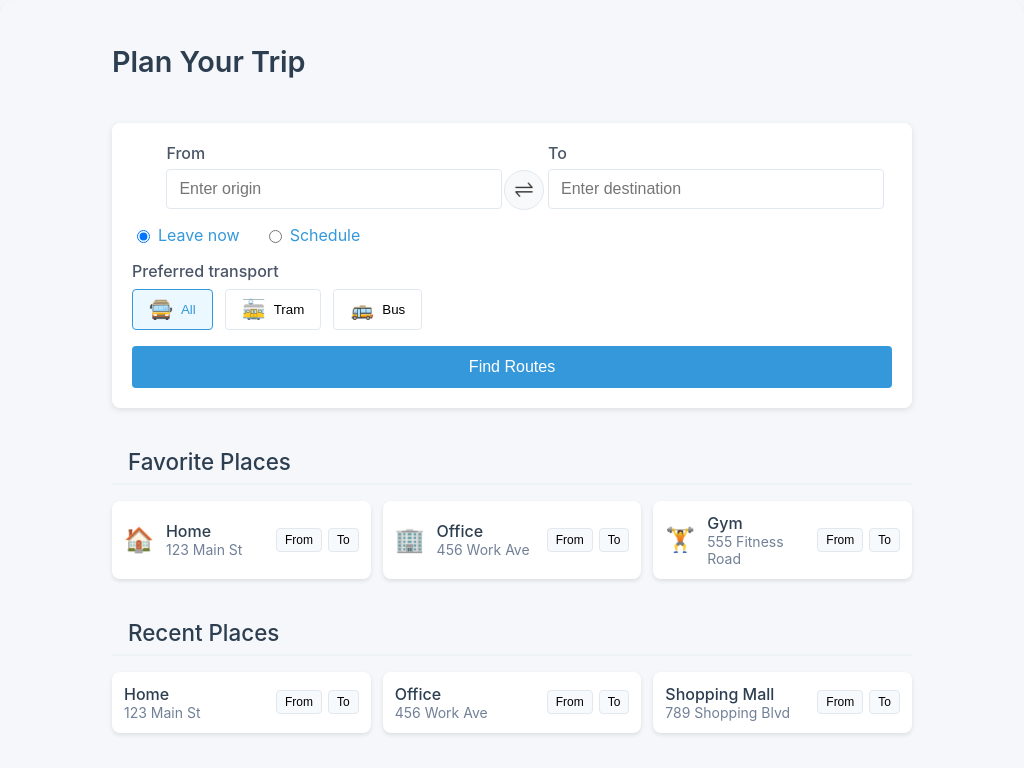
Test case: PlanTripPage 组件测试 › 显示表单验证错误
# 点击查找路线按钮
Click the button "Find Routes". click: (512,367)
box: [132,346,892,388]
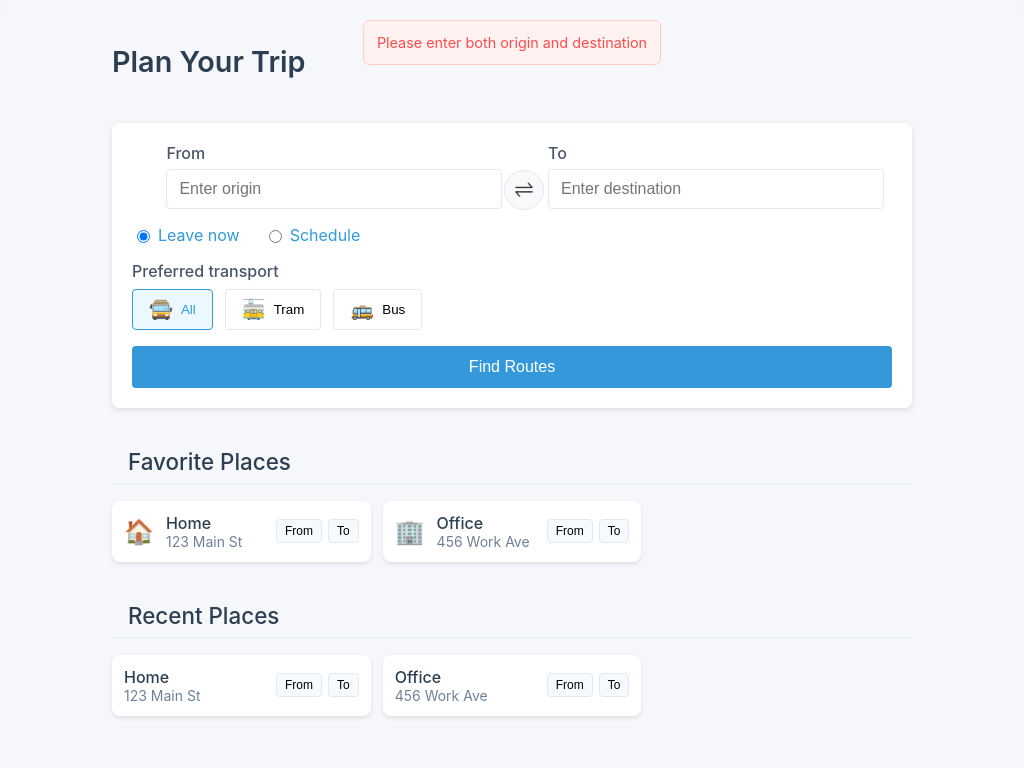
Expected: the text "Please enter both origin and destination" is shown, [363,20,661,65]
